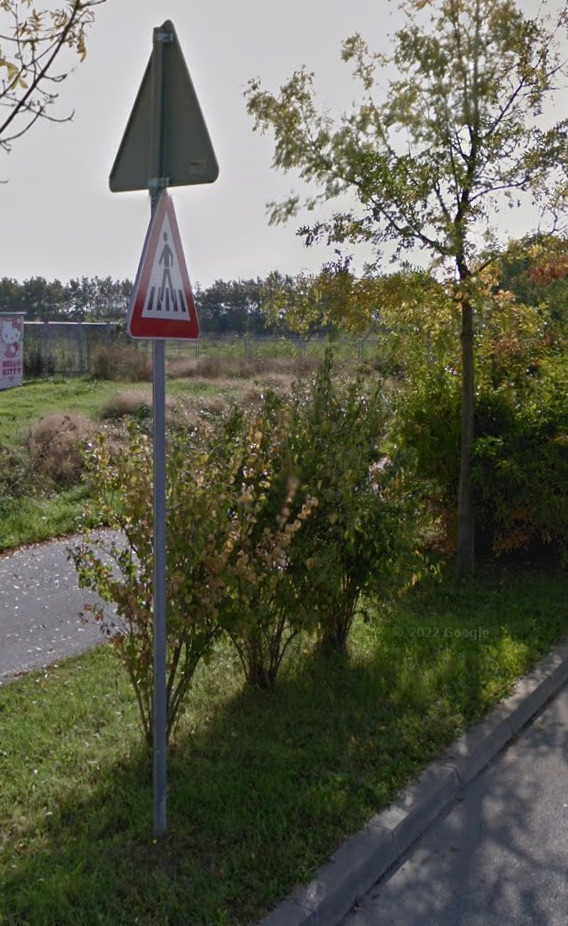Približavanje pješačkom prijelazu: (128, 191, 201, 340)
